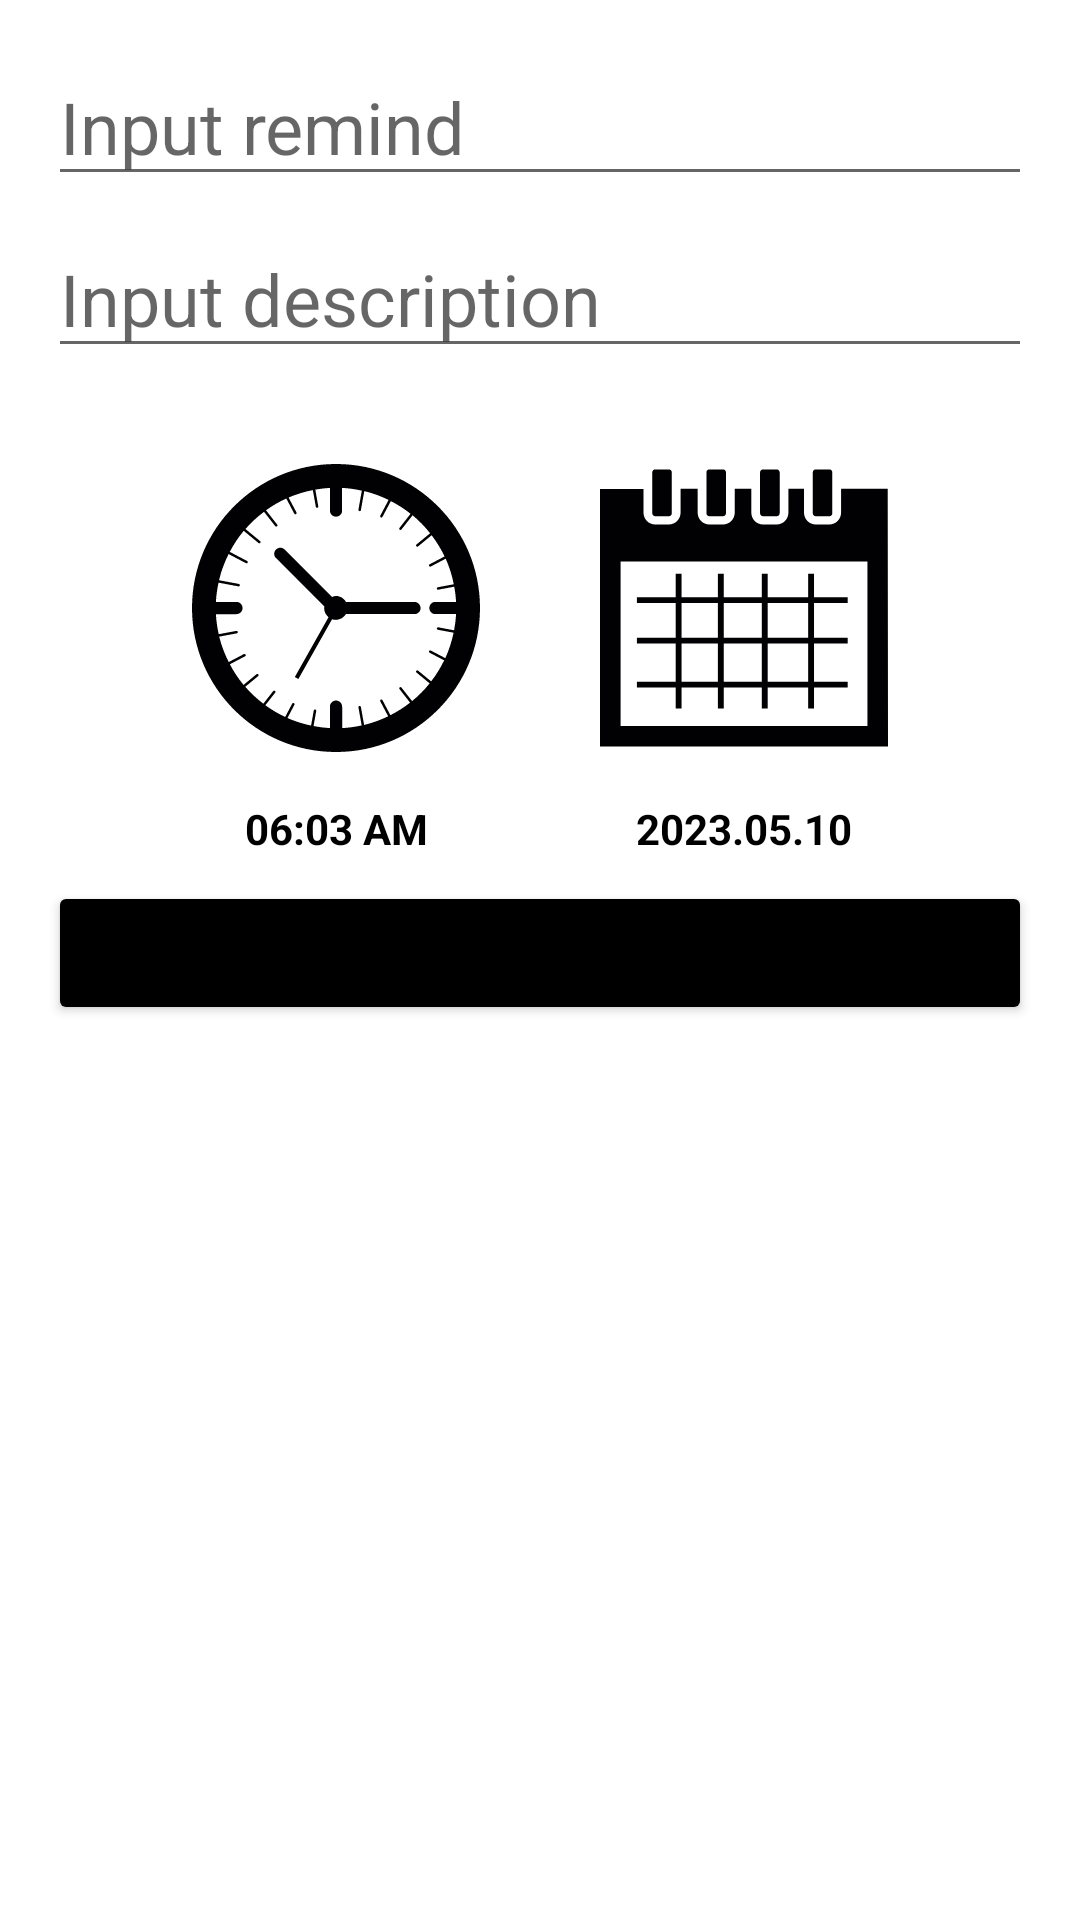

Named icons in this screenshot (1080×1920) and their centers, [x,y]:
Calendar: [744,608]
Time: [336,608]
